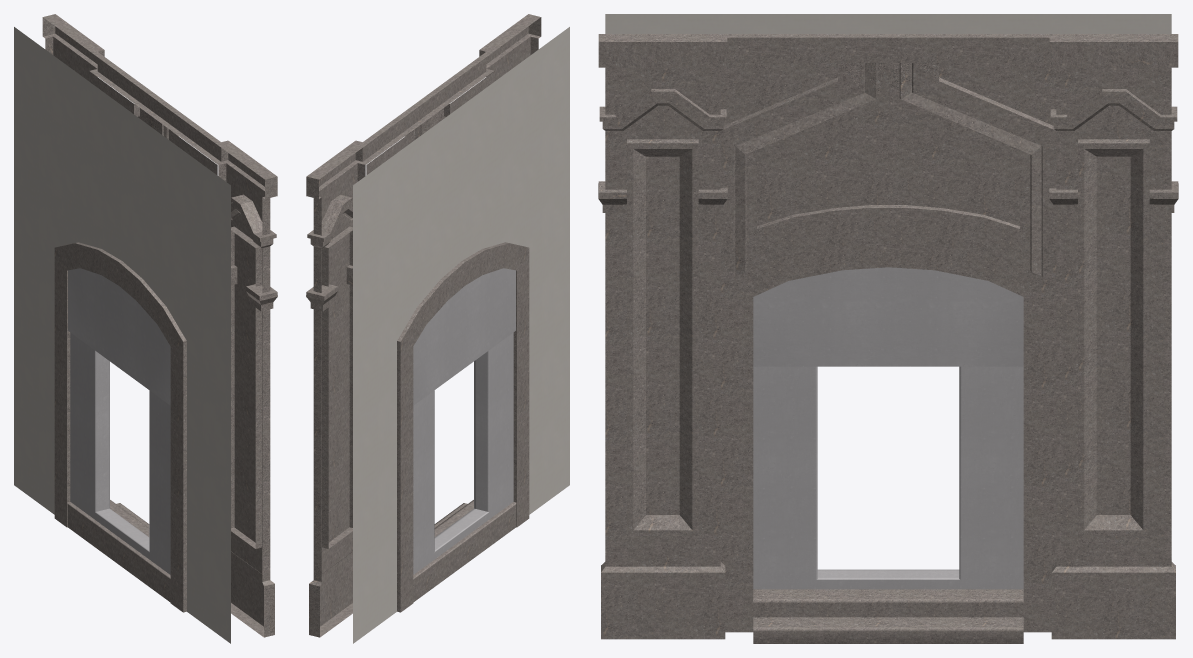
File: BuildingB_Doorway_Large_VarA_mdl.fbx
The picture shows the model from 3 angles, left to right: view 1: azimuth 30°, elevation 25°; view 2: azimuth 150°, elevation 25°; view 3: azimuth 270°, elevation 25°; orthographic projection. The views are drawn at different scales.
Parts seen in each view (by area): view 1: BuildingB_Doorway_Large_VarA_LOD0; view 2: BuildingB_Doorway_Large_VarA_LOD0; view 3: BuildingB_Doorway_Large_VarA_LOD0.
Part boxes in pixels (<box>): BuildingB_Doorway_Large_VarA_LOD0: <box>14,14,277,643</box>; BuildingB_Doorway_Large_VarA_LOD0: <box>306,14,569,643</box>; BuildingB_Doorway_Large_VarA_LOD0: <box>598,14,1178,643</box>.
Size of what is drawn, in the model's own units: 84.89 by 700 by 615.
